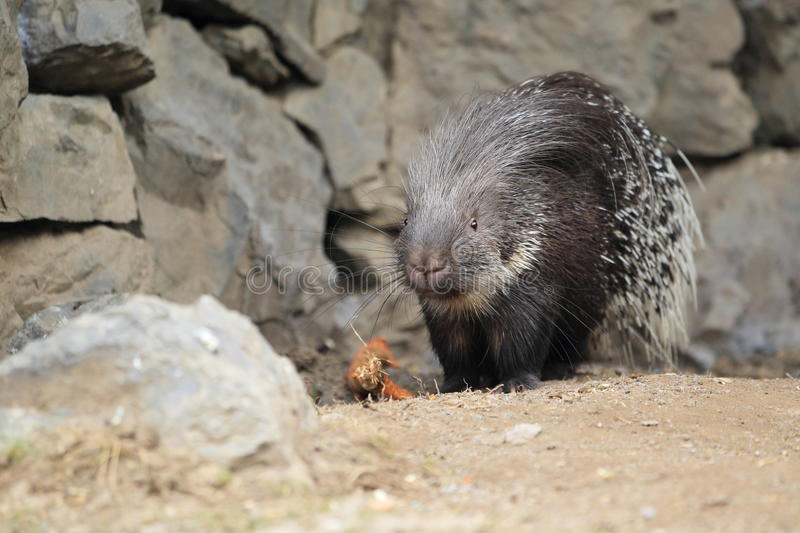porcupine: (394, 50, 704, 403)
